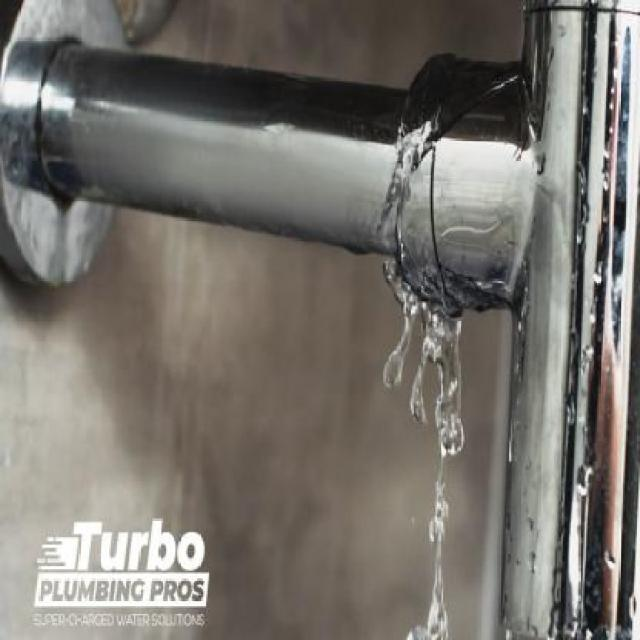pipe burst: (384, 45, 453, 640)
